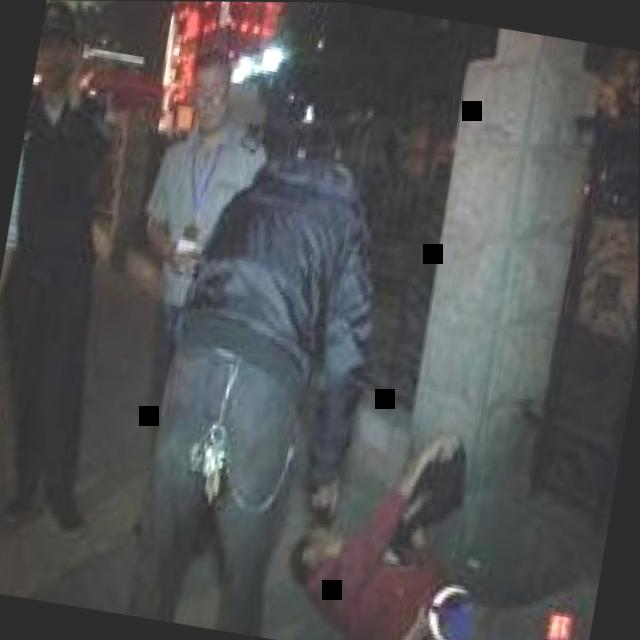Fall-Detected: (268, 380, 625, 640)
